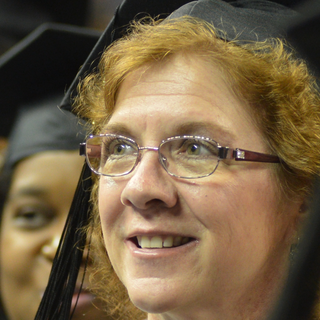eye: (172, 134, 217, 160), (108, 134, 143, 161)
